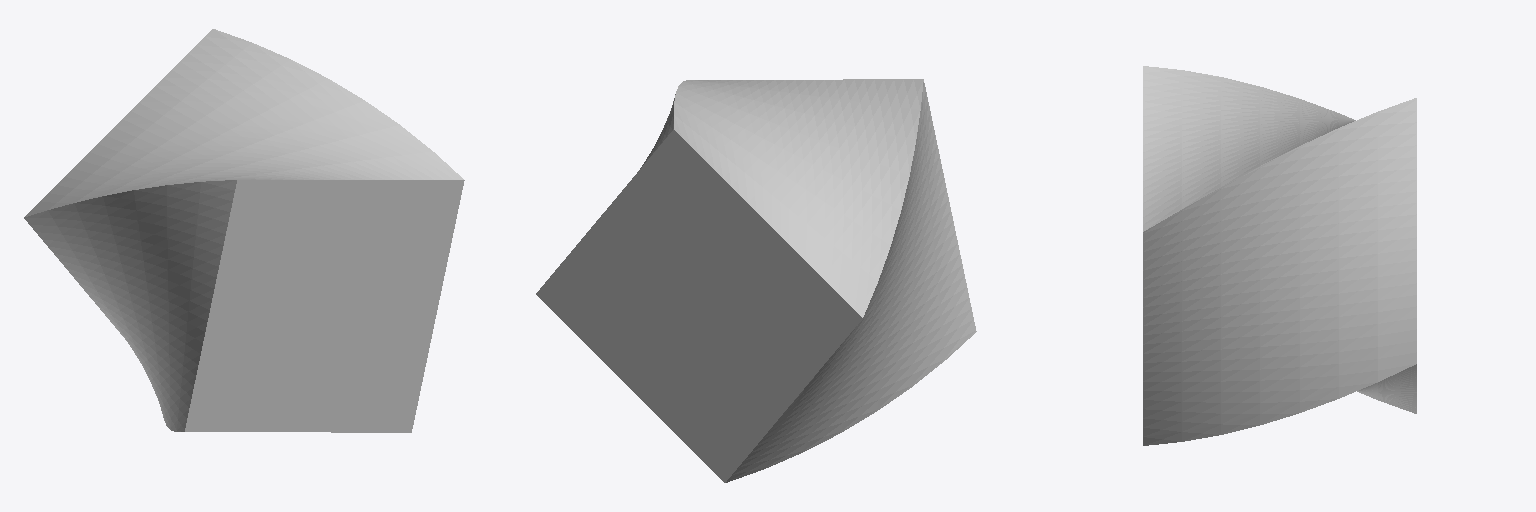
Rendered from Recurso 9.obj.
3 renders of one model, left to right at view 1: azimuth 30°, elevation 25°; view 2: azimuth 150°, elevation 25°; view 3: azimuth 270°, elevation 25°, orthographic.
Parts seen in each view (by area): view 1: groupNumber_0; view 2: groupNumber_0; view 3: groupNumber_0.
Boxes of the visible parts, box(x1,y1,x2,y2) form: groupNumber_0: box(24, 29, 464, 432); groupNumber_0: box(536, 79, 976, 482); groupNumber_0: box(1143, 66, 1416, 445).
Size of the model in its own units: 5.69 by 5.68 by 4.13.